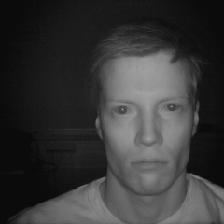normal: (83, 34, 215, 197)
